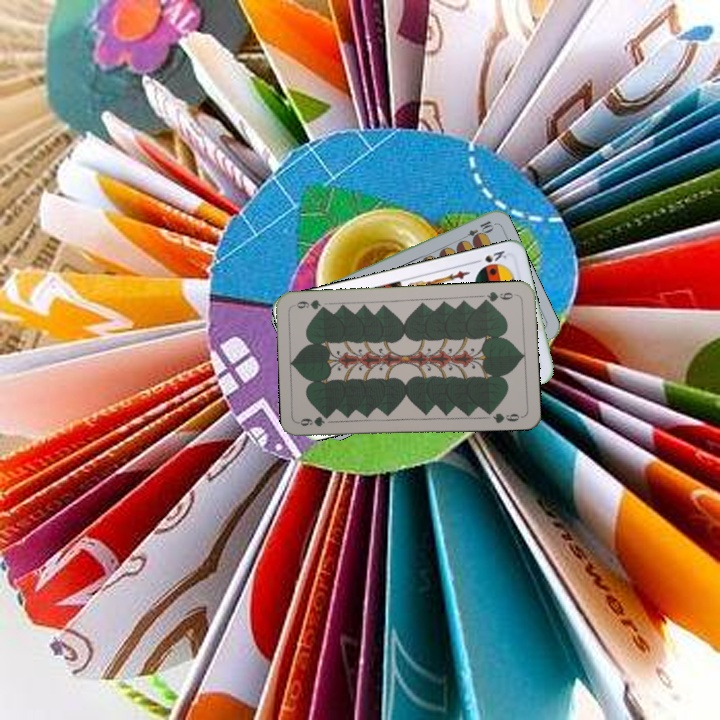E10: (457, 216, 496, 244)
G9: (479, 287, 519, 306), (295, 414, 327, 429)
SK: (470, 246, 509, 266)
